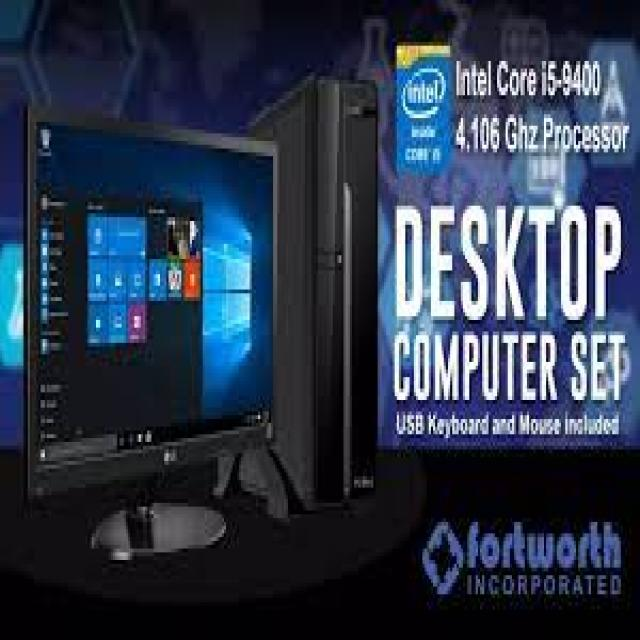Computer: (279, 65, 385, 514)
Monitor: (19, 90, 278, 507)
